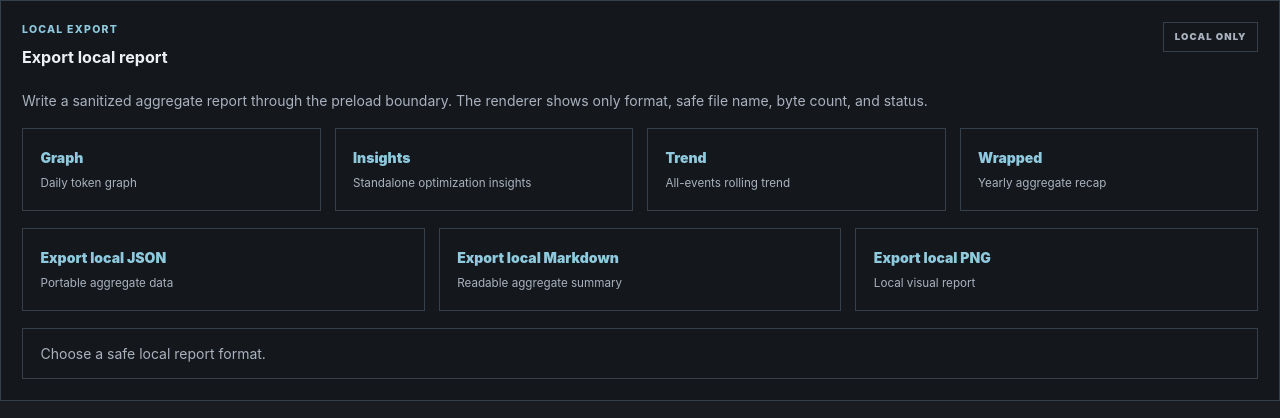
desktop share report panel › shows a deterministic cancelled state when the save dialog is cancelled
This screenshot has width=1280, height=418.
Click the button "Export local JSON" at (103, 257), box [22, 228, 425, 311]
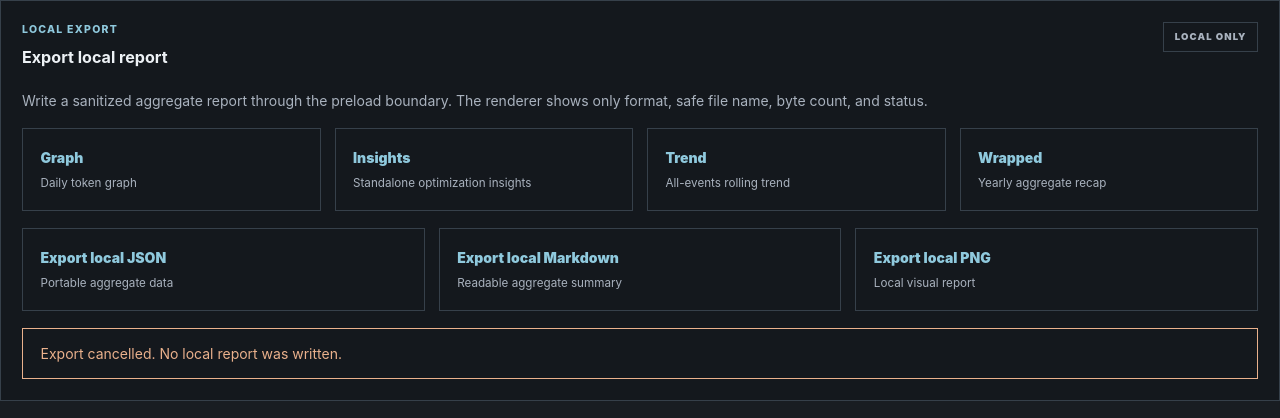
Check: the text "Export cancelled. No local report was written." is shown, box [40, 345, 342, 362]
